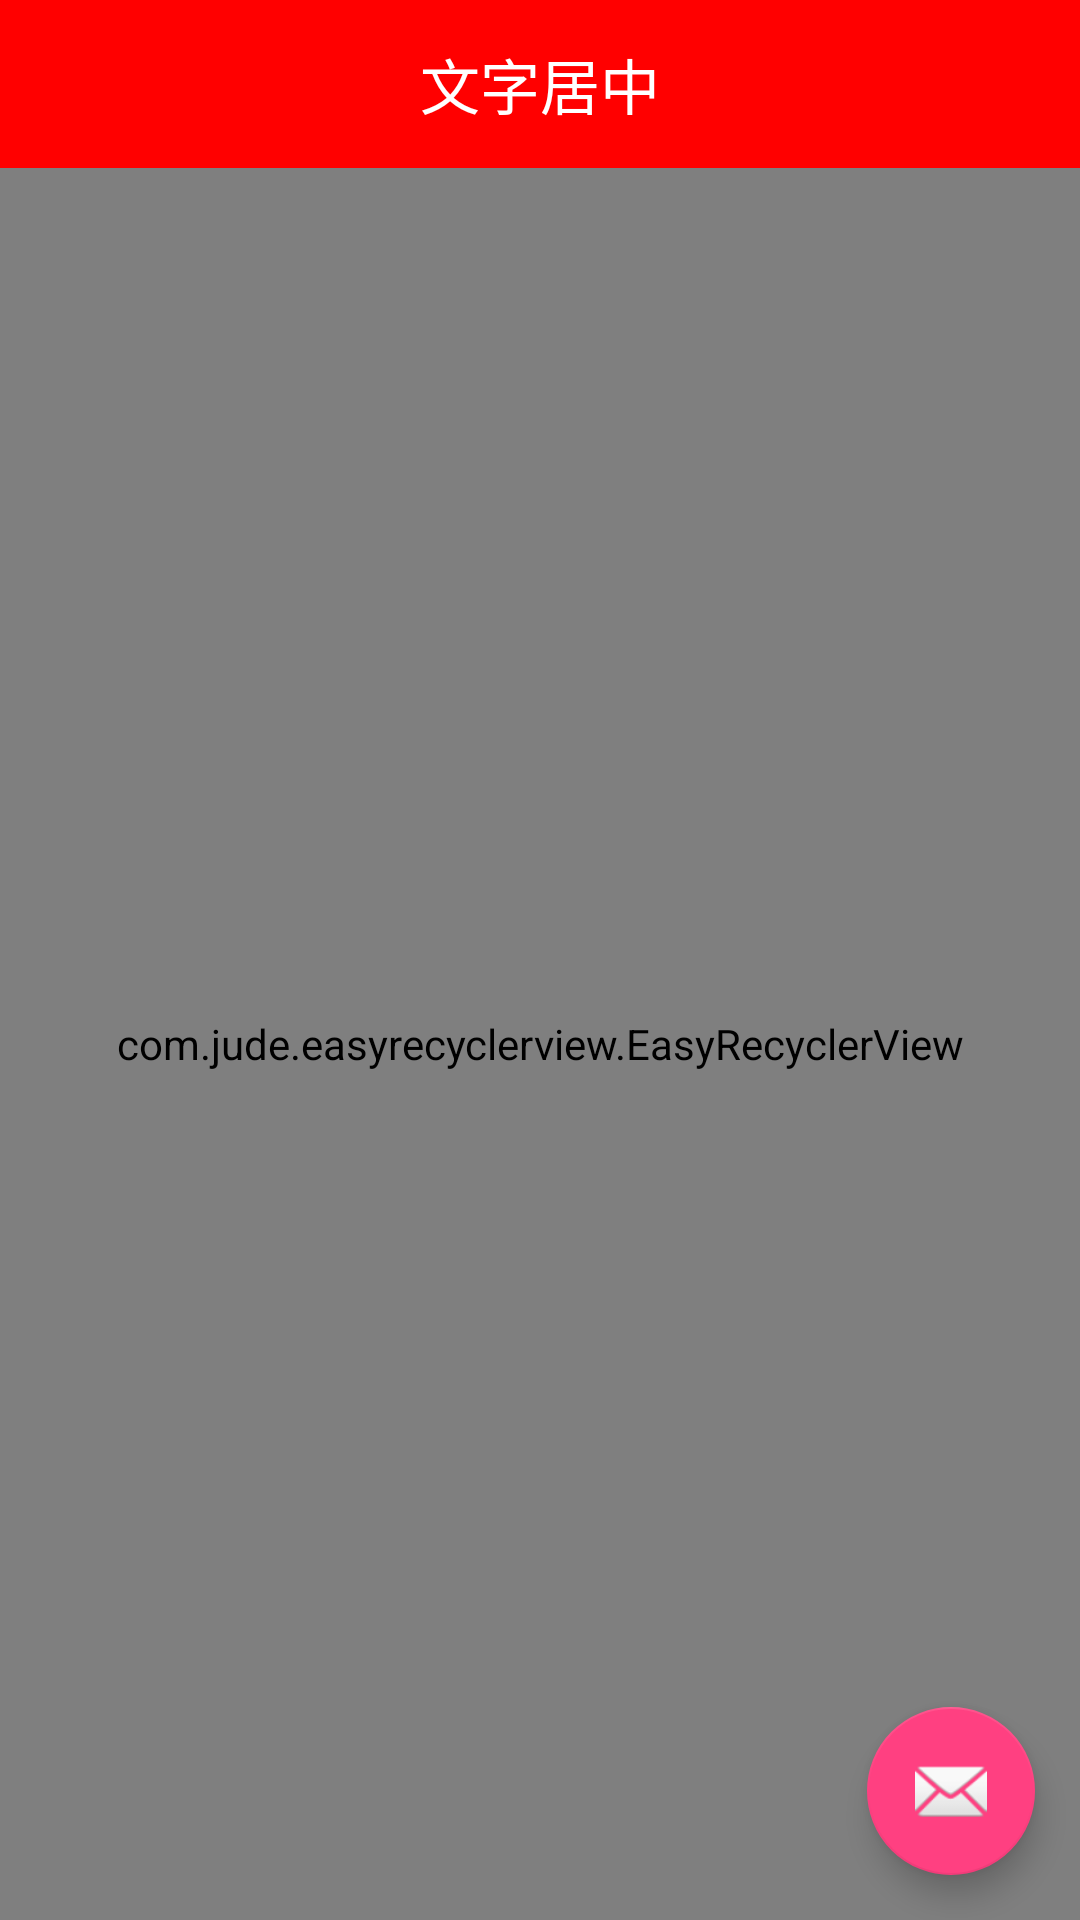

Locate icon controls on the screen. Image size 1080 x 1920, boxes as (x1, y1, x2, y2).
email: (867, 1707, 1035, 1875)
